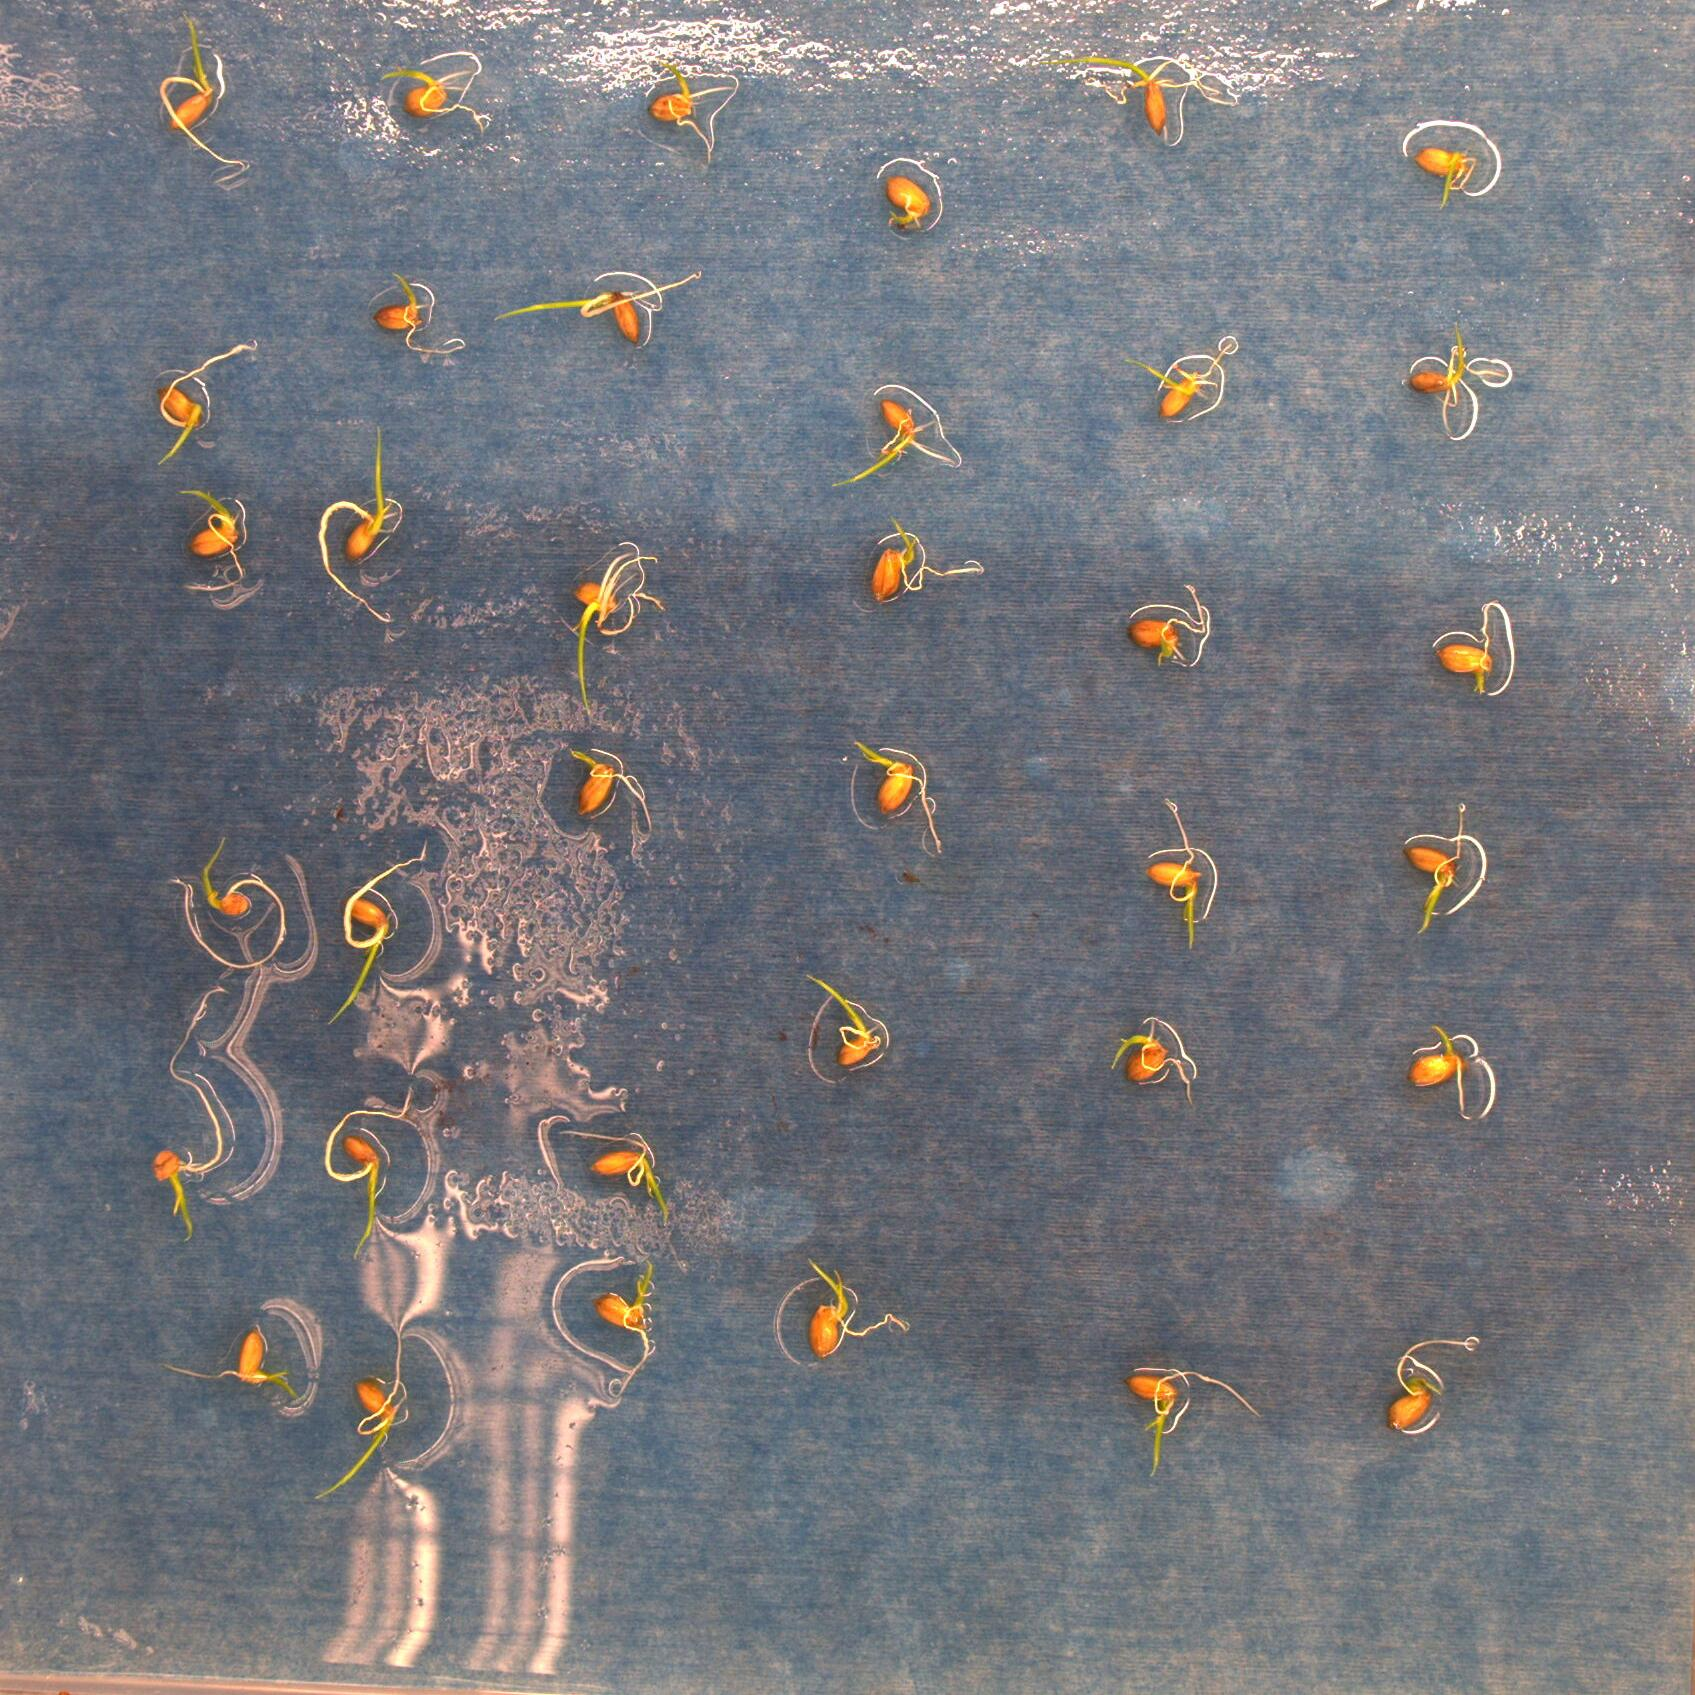sprout: (151, 986, 231, 1243), (310, 1298, 411, 1503), (326, 841, 432, 1026), (557, 542, 663, 723), (1042, 54, 1242, 147), (157, 8, 250, 185), (168, 835, 289, 969), (324, 1085, 413, 1260), (317, 421, 393, 624), (1124, 1366, 1260, 1478), (492, 273, 703, 345), (154, 338, 261, 467), (165, 1319, 306, 1406), (832, 394, 959, 490), (557, 1127, 672, 1231), (1406, 320, 1509, 433), (806, 1253, 906, 1360), (852, 737, 944, 855), (868, 512, 986, 602), (646, 59, 740, 163), (1124, 334, 1239, 419), (591, 1257, 658, 1402), (1146, 795, 1205, 950), (1386, 1336, 1479, 1433), (373, 267, 469, 357), (1405, 802, 1467, 931), (1108, 1015, 1194, 1105), (177, 490, 250, 594), (806, 972, 885, 1066), (567, 747, 653, 832), (1125, 581, 1208, 664), (1408, 1021, 1475, 1124), (1433, 601, 1499, 697), (380, 67, 486, 127), (1414, 144, 1479, 210), (886, 172, 931, 231)
